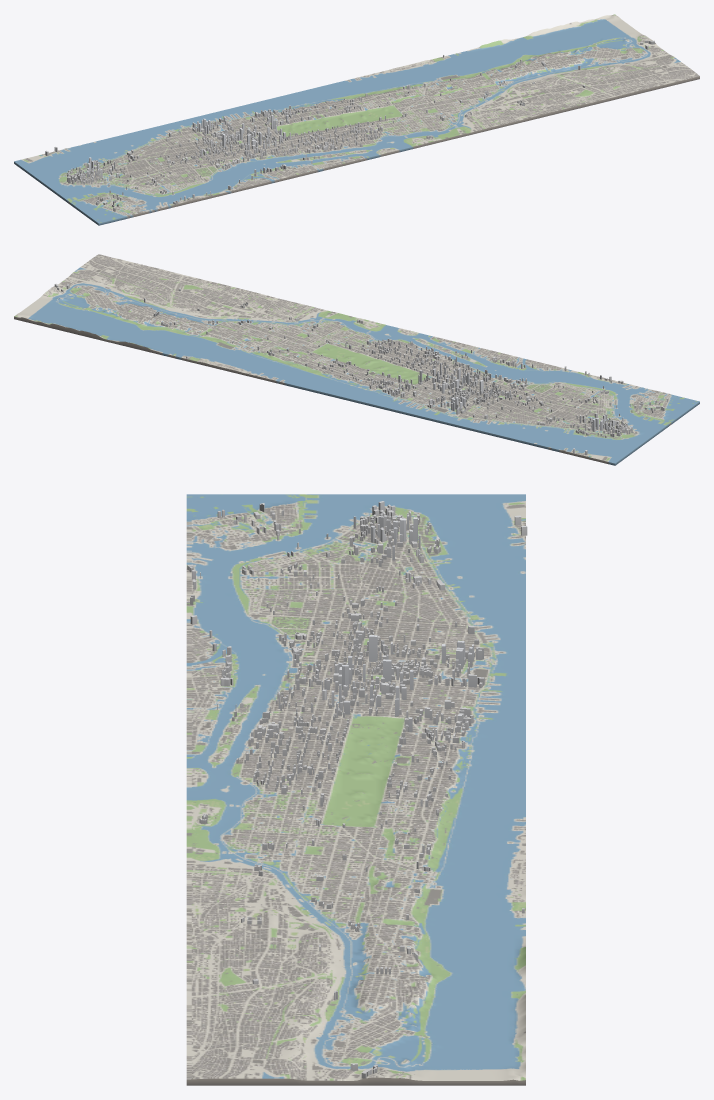
File: osm-manhattan-island-block.glb
3 renders of one model, top to bottom at view 1: azimuth 30°, elevation 25°; view 2: azimuth 150°, elevation 25°; view 3: azimuth 270°, elevation 25°, orthographic. The views are drawn at different scales.
Visible parts, largest first — view 1: Manhattan block; view 2: Manhattan block; view 3: Manhattan block.
Boxes of the visible parts, x1,y1,x2,y2 form: Manhattan block: [14, 14, 699, 225]; Manhattan block: [14, 254, 699, 465]; Manhattan block: [186, 494, 527, 1085].
Size of the model in its own units: 22100 by 576 by 5418.
Materials: 2 (1 with a texture image).
